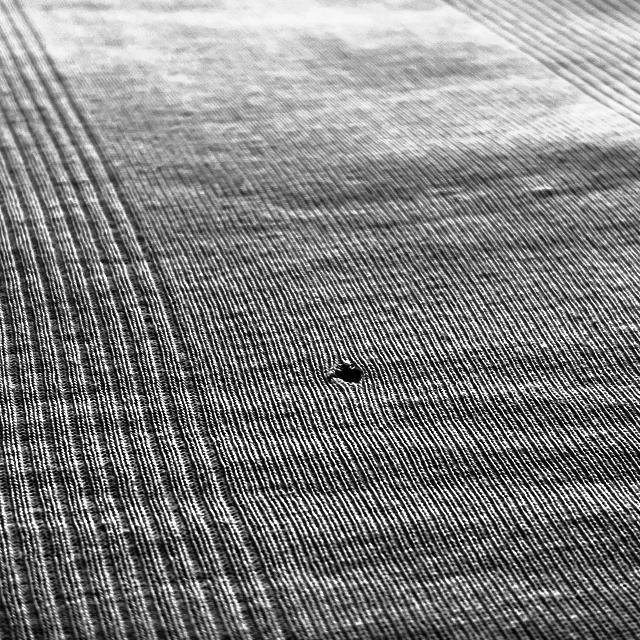Hole: (314, 345, 377, 396)
